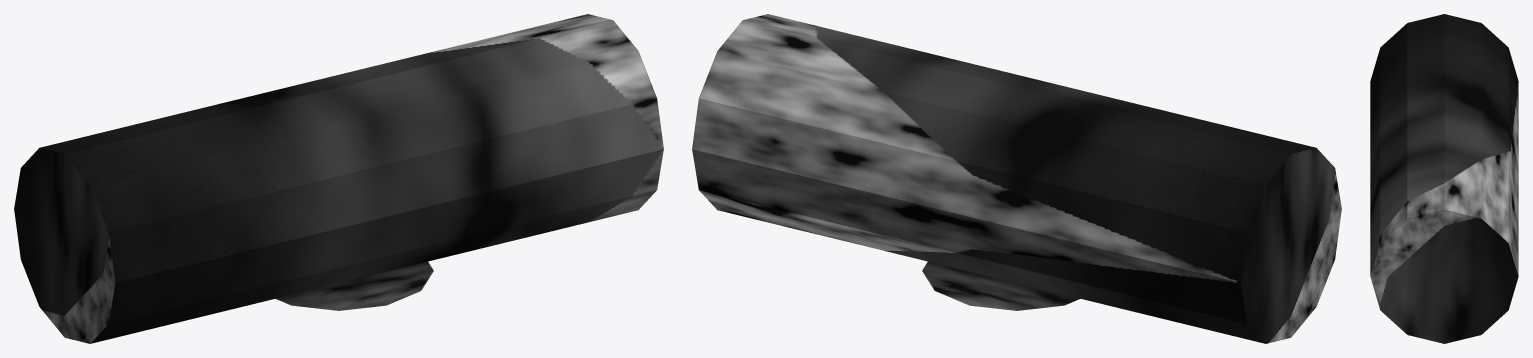
The model's file is wood_log.glb.
3 views of the same model, side by side, from view 1: azimuth 30°, elevation 25°; view 2: azimuth 150°, elevation 25°; view 3: azimuth 270°, elevation 25° (orthographic). The views are drawn at different scales.
Parts seen in each view (by area): view 1: wood_log; view 2: wood_log; view 3: wood_log.
Part boxes in pixels (box(x1,y1,x2,y2)): wood_log: box(14, 14, 663, 343); wood_log: box(692, 14, 1341, 343); wood_log: box(1370, 14, 1518, 343).
Size of the model in its own units: 0.5 by 0.16 by 0.16.
1 material, 1 textured.
